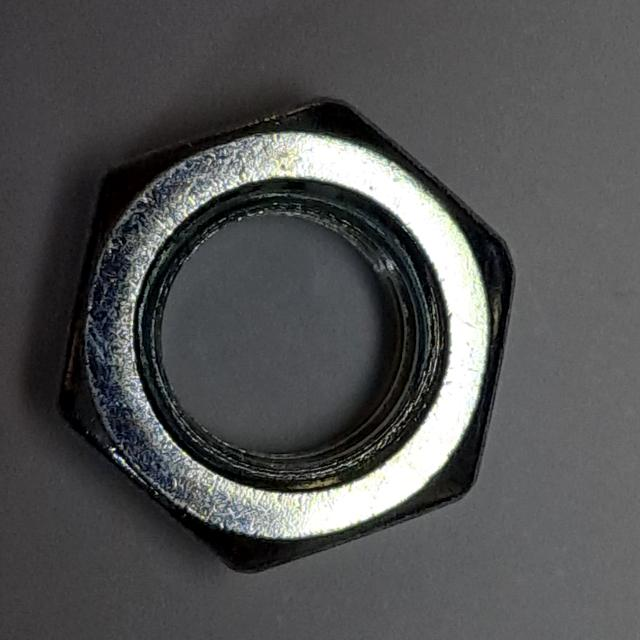Excellent: (44, 88, 530, 586)
